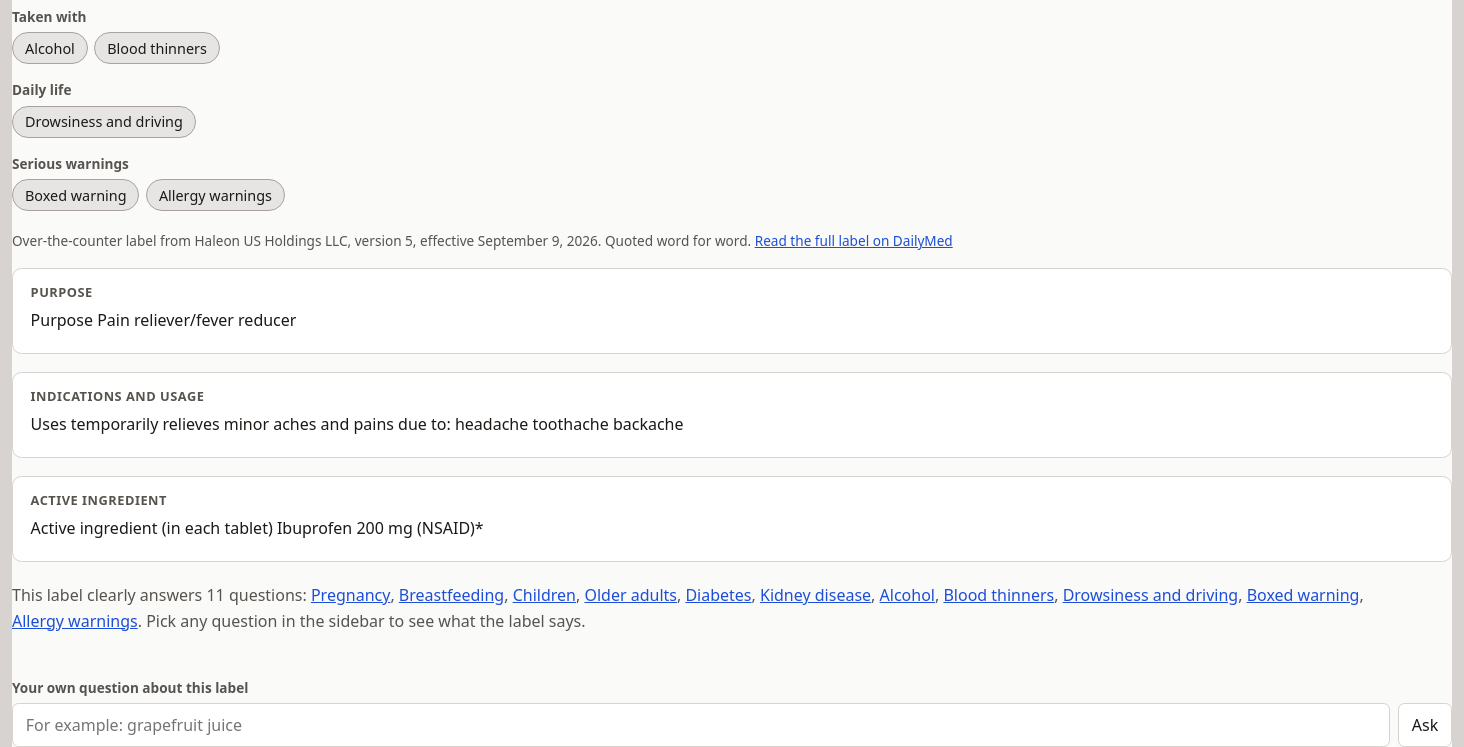
Test: DrugAnswers › shows the label overview until a question is picked
(page scrolled)
expect the heading "Purpose" is shown: met, box 31,283 -> 93,301
Step 1. Click the button "Pregnancy" → (351, 596), box 311,583 -> 390,608
(page scrolled)
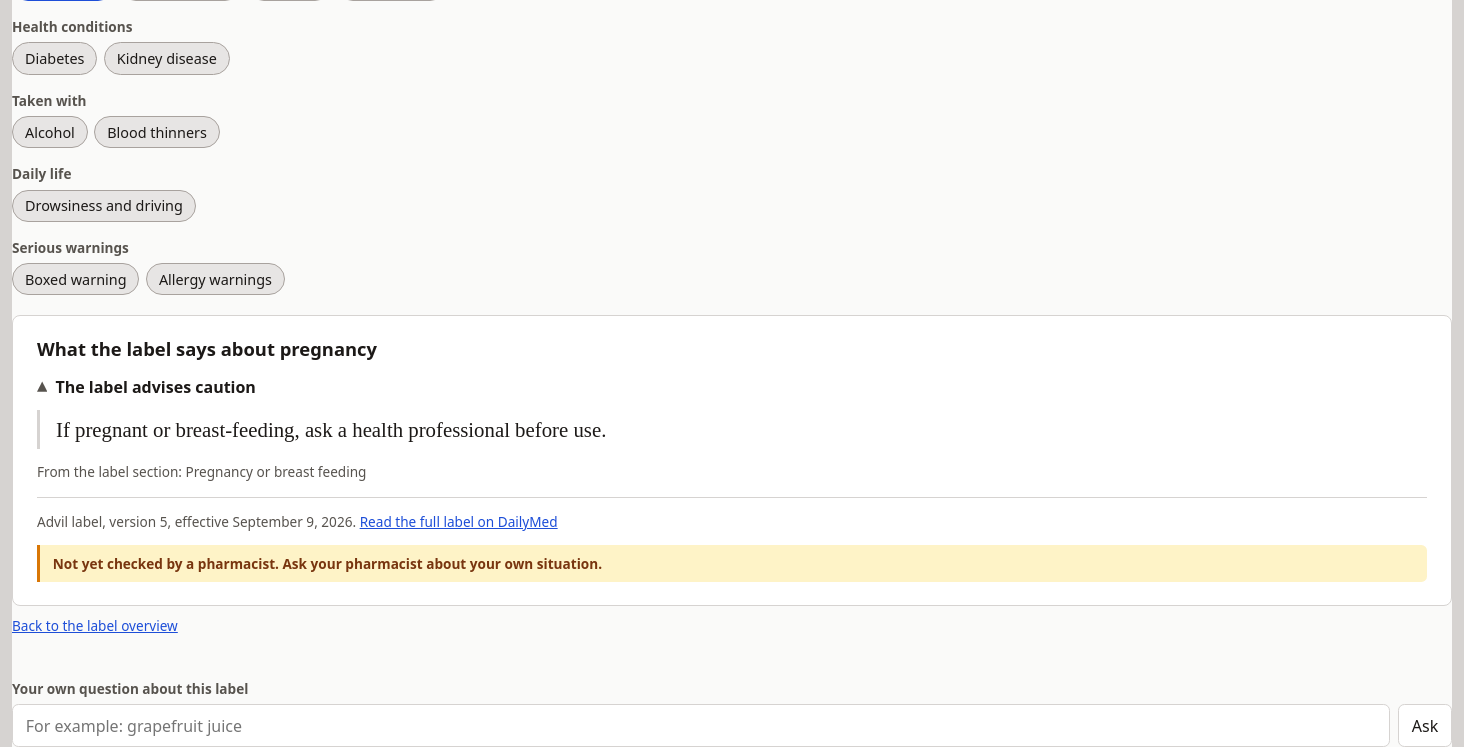
expect the heading "What the label says about pregnancy" is shown: met, box 37,336 -> 377,361
